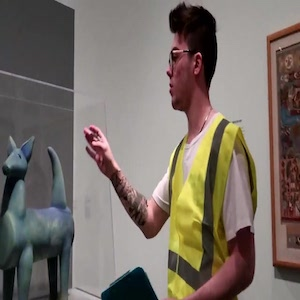vest: (166, 113, 257, 299)
